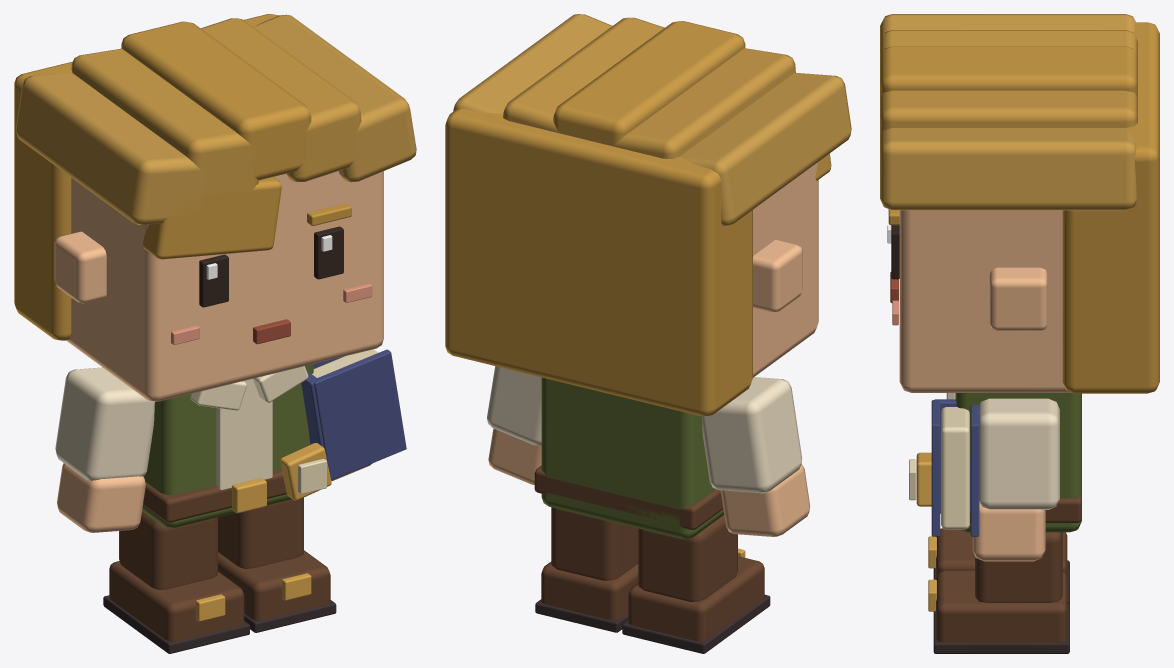
File: NPC07_bst_warden.glb
The picture shows the model from 3 angles, left to right: view 1: azimuth 30°, elevation 25°; view 2: azimuth 150°, elevation 25°; view 3: azimuth 270°, elevation 25°; orthographic projection. The views are drawn at different scales.
Parts seen in each view (by area): view 1: Face, HairLock, _MeshInstance3D_118, _MeshInstance3D_117, HairBack, Jacket, Sleeve, _MeshInstance3D_120, _MeshInstance3D_111, _MeshInstance3D_119, Fringe, Boot (+22 smaller); view 2: HairBack, Jacket, HairLock, _MeshInstance3D_118, Sleeve, _MeshInstance3D_117, Face, Trousers, _MeshInstance3D_119, Boot, _MeshInstance3D_120, Trousers2 (+8 smaller); view 3: Face, HairBack, _MeshInstance3D_120, _MeshInstance3D_118, _MeshInstance3D_119, Sleeve2, Boot2, _MeshInstance3D_117, Trousers2, HairLock, _MeshInstance3D_112, Hand2 (+9 smaller).
Boxes of the visible parts, bbox=[...] form: Face: bbox=[66, 171, 383, 401]; HairLock: bbox=[16, 73, 205, 225]; _MeshInstance3D_118: bbox=[121, 21, 311, 180]; _MeshInstance3D_117: bbox=[71, 48, 258, 196]; HairBack: bbox=[14, 14, 278, 340]; Jacket: bbox=[142, 364, 313, 527]; Sleeve: bbox=[55, 367, 154, 480]; _MeshInstance3D_120: bbox=[253, 14, 416, 182]; _MeshInstance3D_111: bbox=[314, 349, 406, 480]; _MeshInstance3D_119: bbox=[201, 18, 361, 181]; Fringe: bbox=[142, 177, 281, 259]; Boot: bbox=[109, 561, 244, 641]; HairBack: bbox=[445, 108, 752, 416]; Jacket: bbox=[541, 377, 724, 538]; HairLock: bbox=[680, 73, 851, 226]; _MeshInstance3D_118: bbox=[553, 21, 745, 146]; Sleeve: bbox=[702, 377, 802, 493]; _MeshInstance3D_117: bbox=[613, 48, 795, 158]; Face: bbox=[753, 162, 818, 377]; Trousers: bbox=[638, 515, 737, 601]; _MeshInstance3D_119: bbox=[503, 17, 664, 132]; Boot: bbox=[628, 556, 764, 641]; _MeshInstance3D_120: bbox=[453, 14, 612, 113]; Trousers2: bbox=[551, 507, 638, 580]; Face: bbox=[899, 210, 1071, 392]; HairBack: bbox=[1062, 22, 1159, 393]; _MeshInstance3D_120: bbox=[880, 128, 1137, 210]; _MeshInstance3D_118: bbox=[880, 46, 1137, 96]; _MeshInstance3D_119: bbox=[880, 90, 1137, 135]; Sleeve2: bbox=[979, 398, 1059, 509]; Boot2: bbox=[936, 570, 1067, 642]; _MeshInstance3D_117: bbox=[880, 30, 1137, 57]; Trousers2: bbox=[975, 532, 1062, 602]; HairLock: bbox=[880, 14, 1135, 41]; _MeshInstance3D_112: bbox=[989, 267, 1047, 330]; Hand2: bbox=[972, 503, 1045, 561].
Size of the model in its own units: 0.7291 by 1.25 by 0.575.
